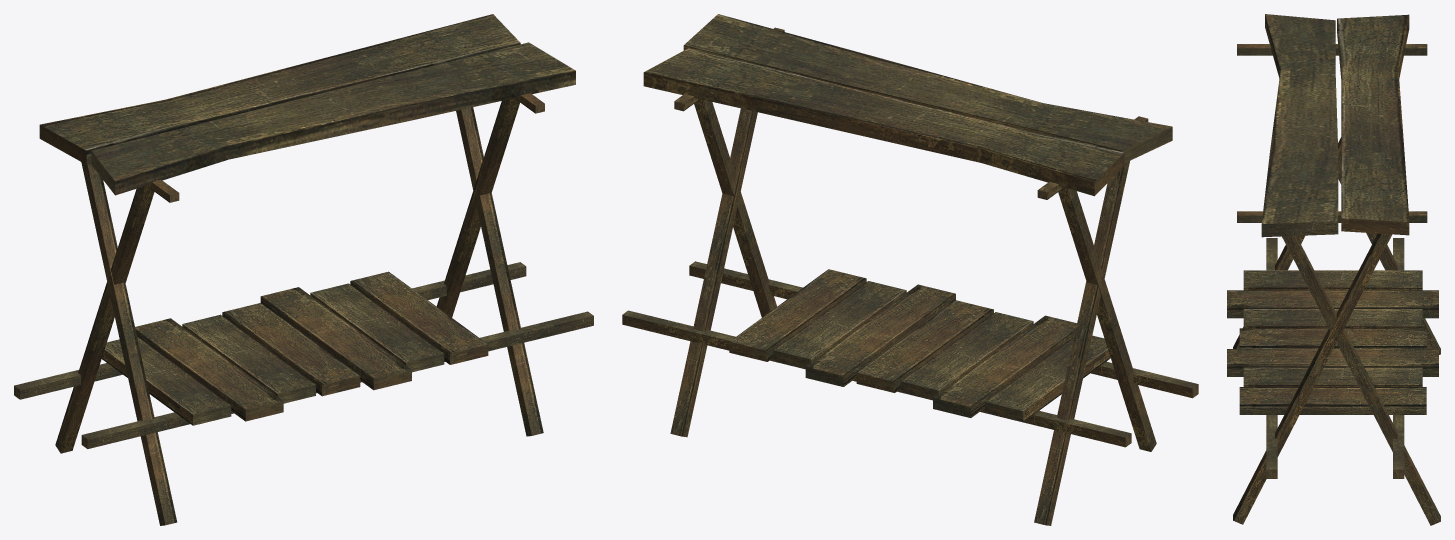
File: table.fbx
3 renders of one model, left to right at view 1: azimuth 30°, elevation 25°; view 2: azimuth 150°, elevation 25°; view 3: azimuth 270°, elevation 25°, orthographic. The views are drawn at different scales.
Size of the model in its own units: 2.57 by 1.67 by 1.
